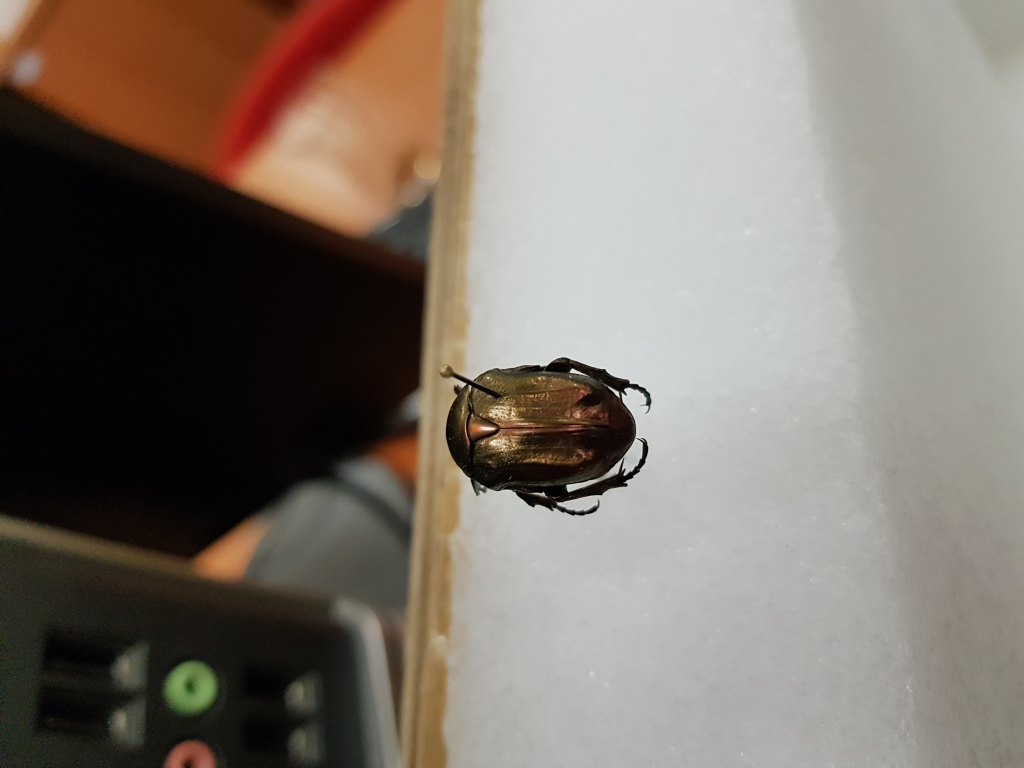Cetonia_aurata: (432, 346, 663, 526)
